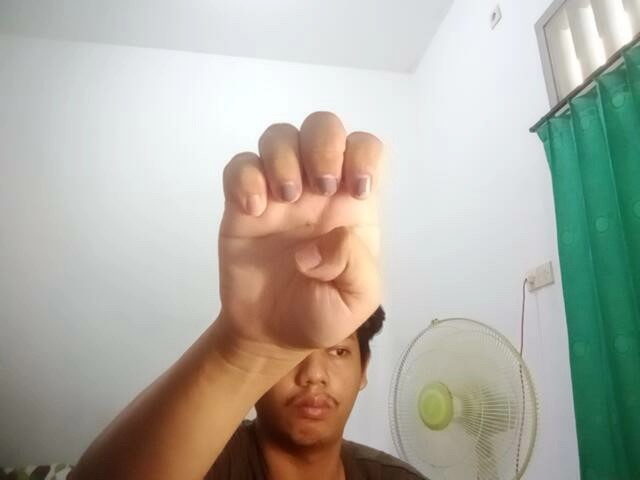E: (194, 94, 412, 355)
